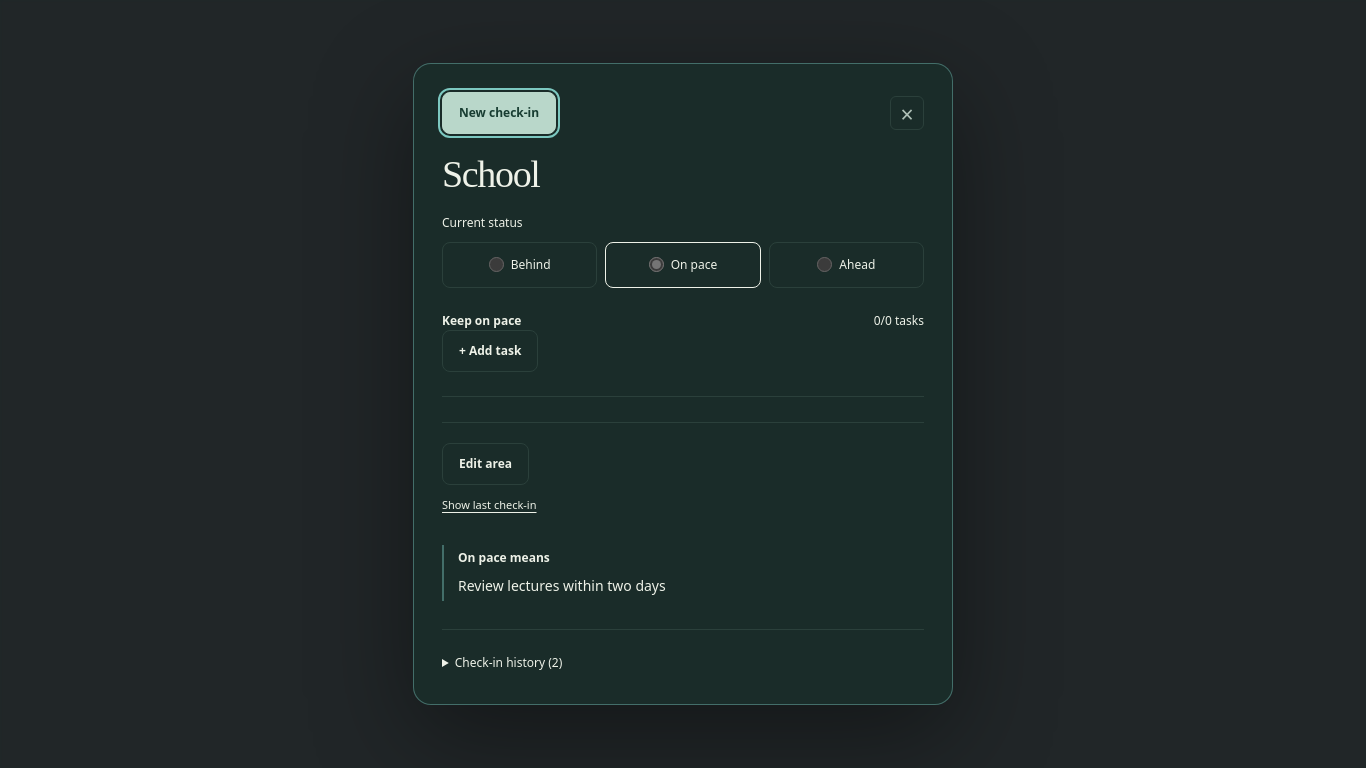
Test case: shows the latest saved check-in without changing it when a new status is selected
This screenshot has width=1366, height=768.
Later steps or results of the test are not shown.
Click the button "New check-in".
click(499, 113)  # box x1=442 y1=92 x2=556 y2=134
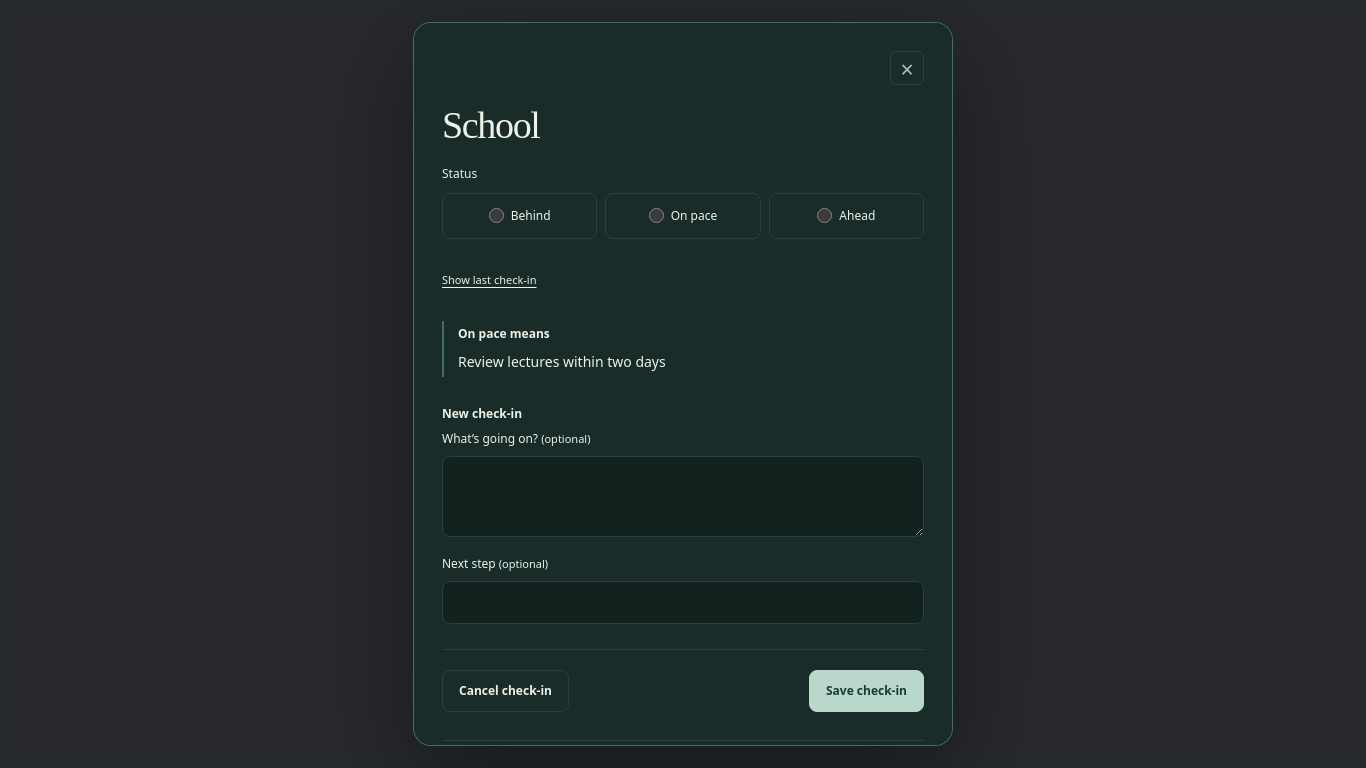
Click the button "Show last check-in".
click(489, 281)  # box x1=442 y1=261 x2=536 y2=301
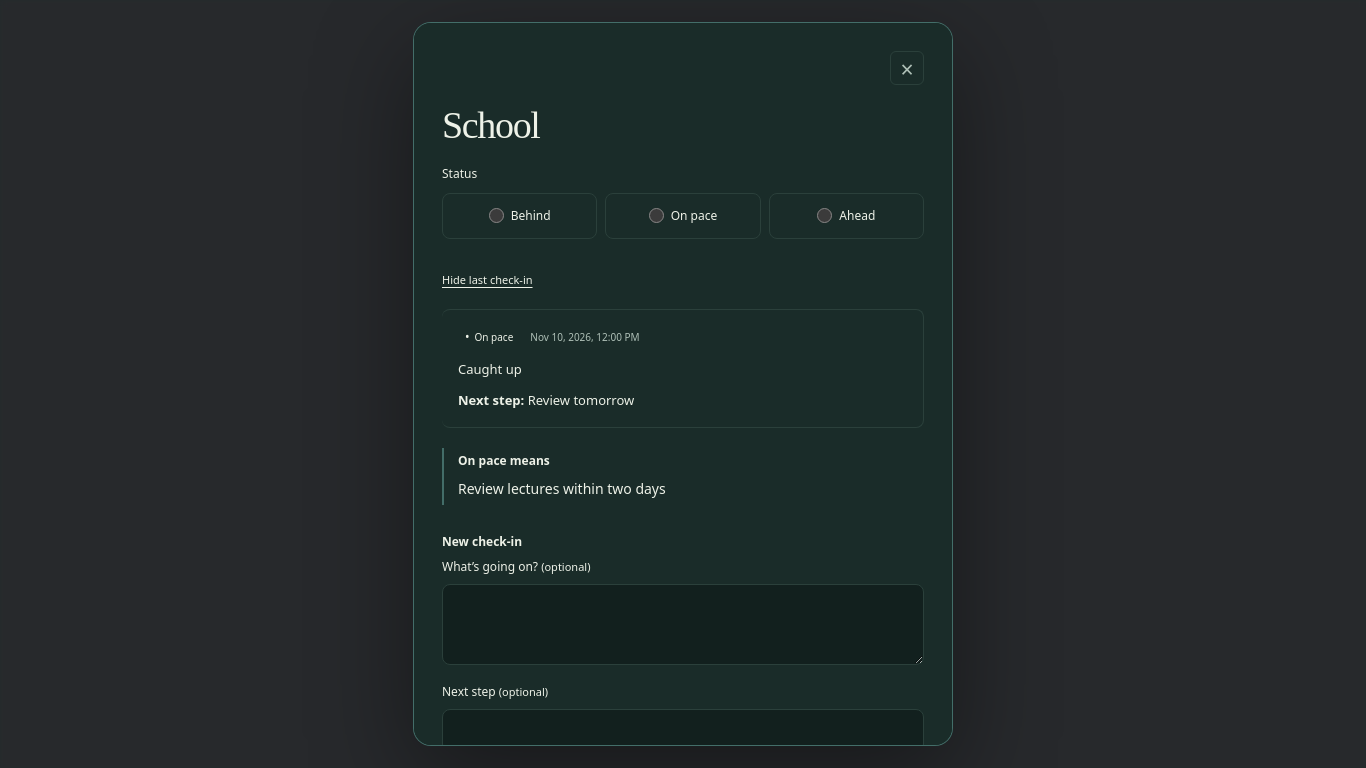
Expected: the button "Hide last check-in" is expanded, x1=442 y1=261 x2=532 y2=301
Expected: the element with class "lv-badge" shows "On pace", x1=474 y1=330 x2=513 y2=344
Expected: the element with id "lv-last-check-in" shows "Caught up", x1=458 y1=360 x2=522 y2=378
Click the radio button labelled "Ahead".
click(825, 216)  # box x1=817 y1=208 x2=832 y2=223
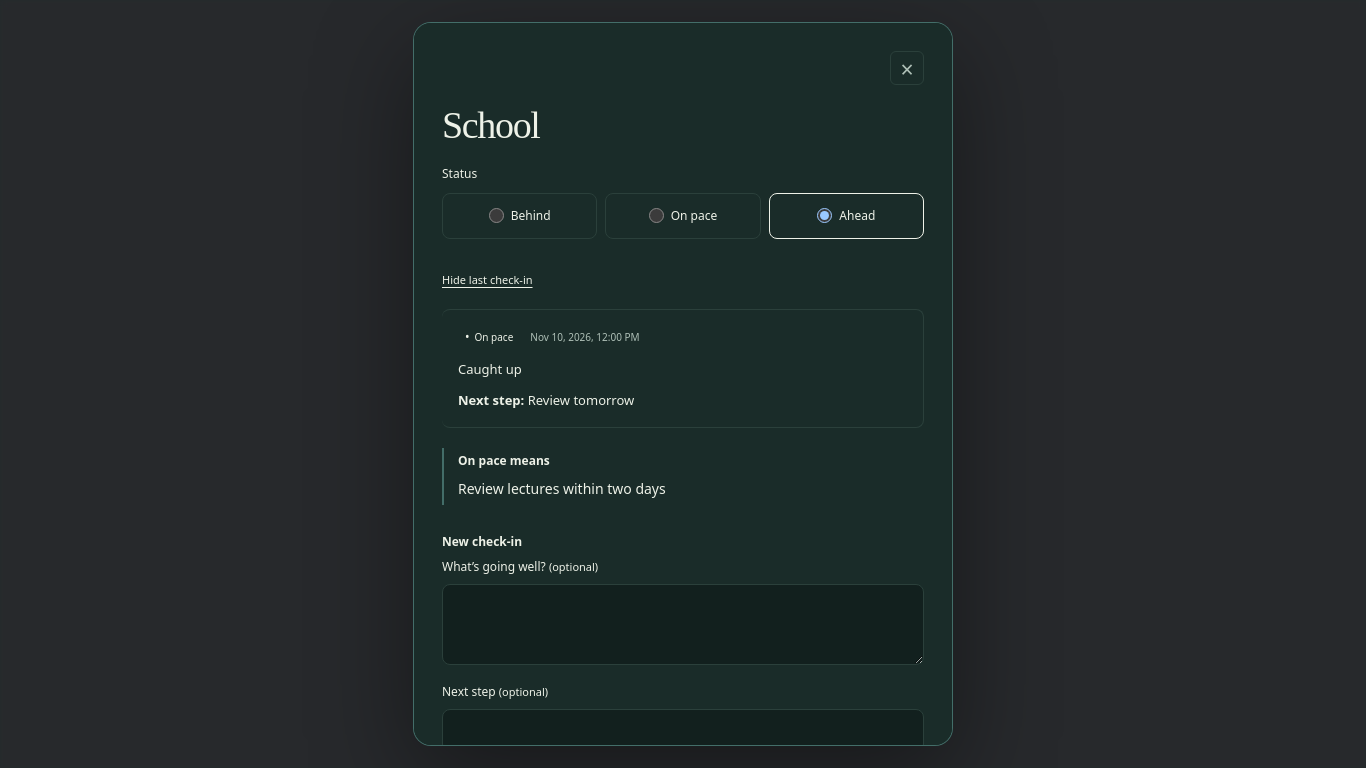
Expected: the element with class "lv-badge" shows "On pace", x1=474 y1=330 x2=513 y2=344
